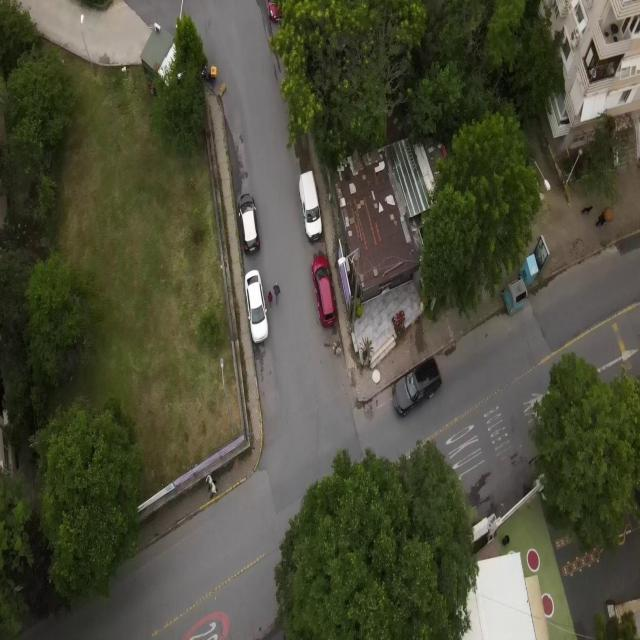p3rson: (595, 206, 615, 230), (273, 279, 281, 307), (205, 474, 217, 490), (210, 483, 218, 500), (268, 289, 274, 311)
